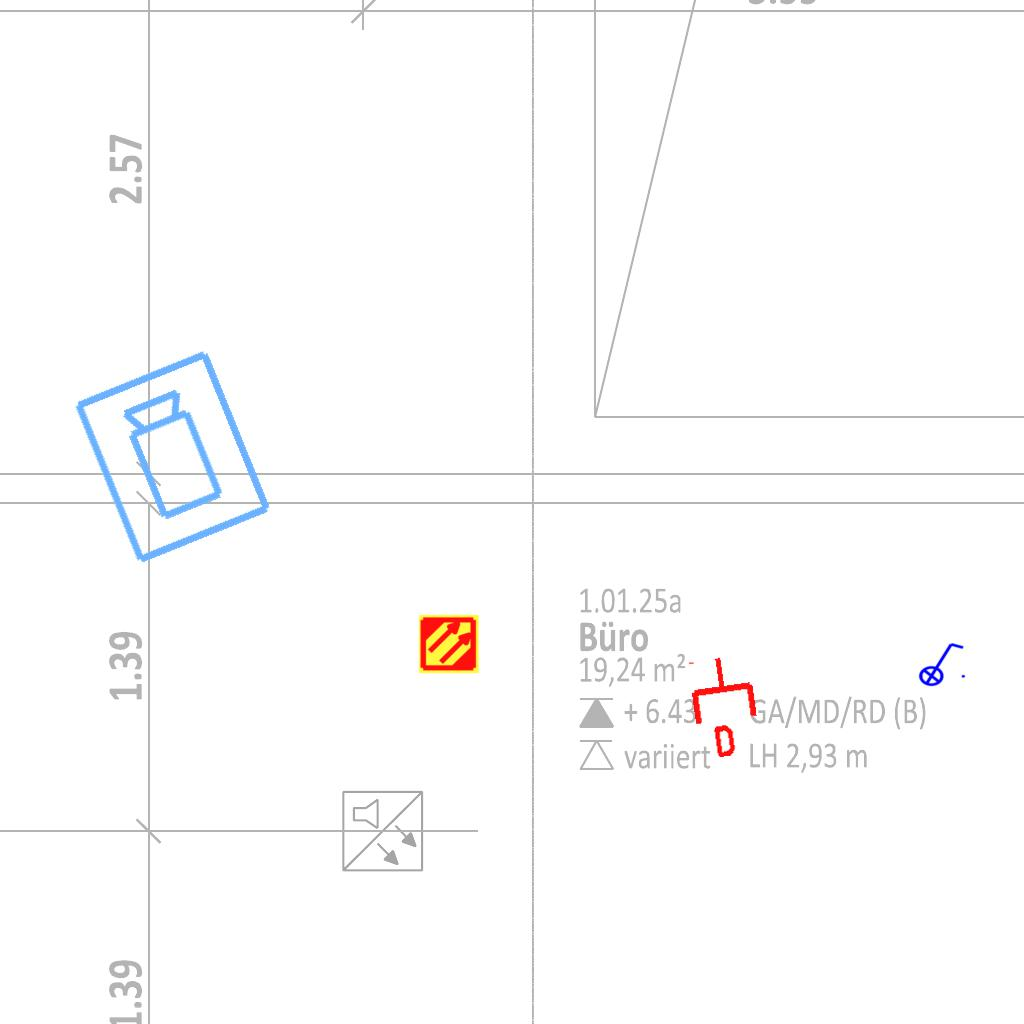ASR_Ansaugrauchmelder: (418, 613, 480, 675)
Ausschalter_beleuchtet: (912, 639, 968, 687)
Datenanschluss_einfach: (683, 651, 766, 761)
KFO_Kamera_mit_Festobjektiv: (68, 343, 280, 571)
